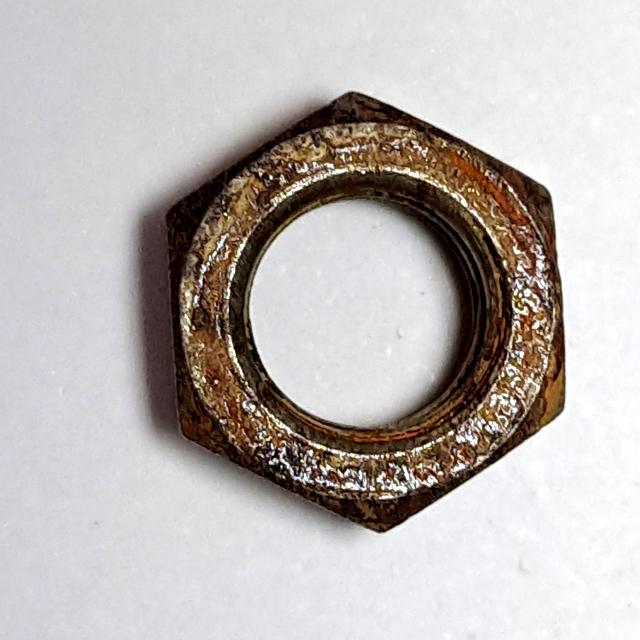Rust: (156, 68, 586, 547)
